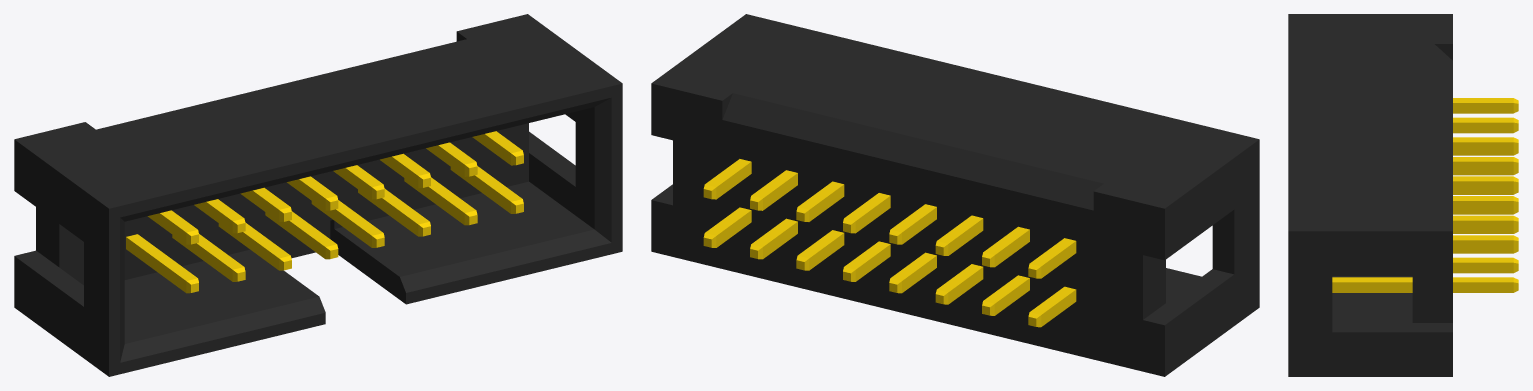
The model's file is DS1013-16S (IDC-16MS CONNFLY).obj.
3 views of the same model, side by side, from view 1: azimuth 30°, elevation 25°; view 2: azimuth 150°, elevation 25°; view 3: azimuth 270°, elevation 25° (orthographic). The views are drawn at different scales.
Parts seen in each view (by area): view 1: DS1013-16S_(IDC-16MS_CONNFLY); view 2: DS1013-16S_(IDC-16MS_CONNFLY); view 3: DS1013-16S_(IDC-16MS_CONNFLY).
Boxes of the visible parts, bbox=[...] form: DS1013-16S_(IDC-16MS_CONNFLY): bbox=[14, 14, 622, 376]; DS1013-16S_(IDC-16MS_CONNFLY): bbox=[651, 14, 1259, 376]; DS1013-16S_(IDC-16MS_CONNFLY): bbox=[1288, 14, 1518, 376].
Bounding box in the file's own units: 0.0156 × 0.00495 × 0.00701.
